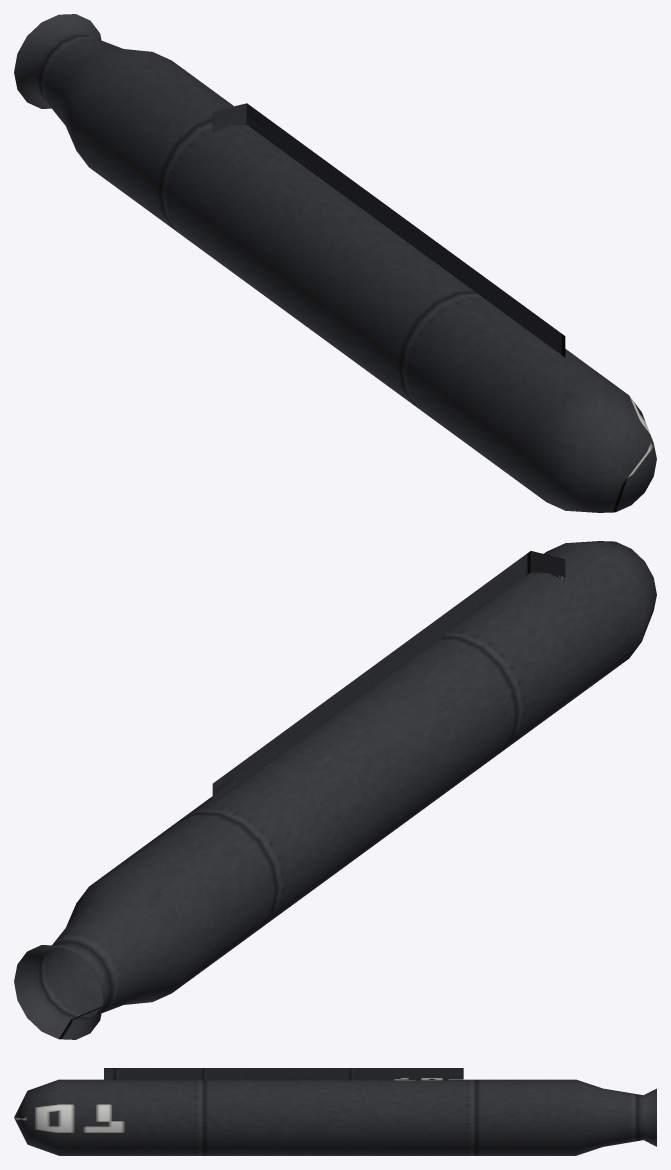
Rendered from drone_booster.obj.
3 views of the same model, one above another, from view 1: azimuth 30°, elevation 25°; view 2: azimuth 150°, elevation 25°; view 3: azimuth 270°, elevation 25° (orthographic). The views are drawn at different scales.
Bounding box in the file's own units: 0.17 × 0.195 × 1.43.
